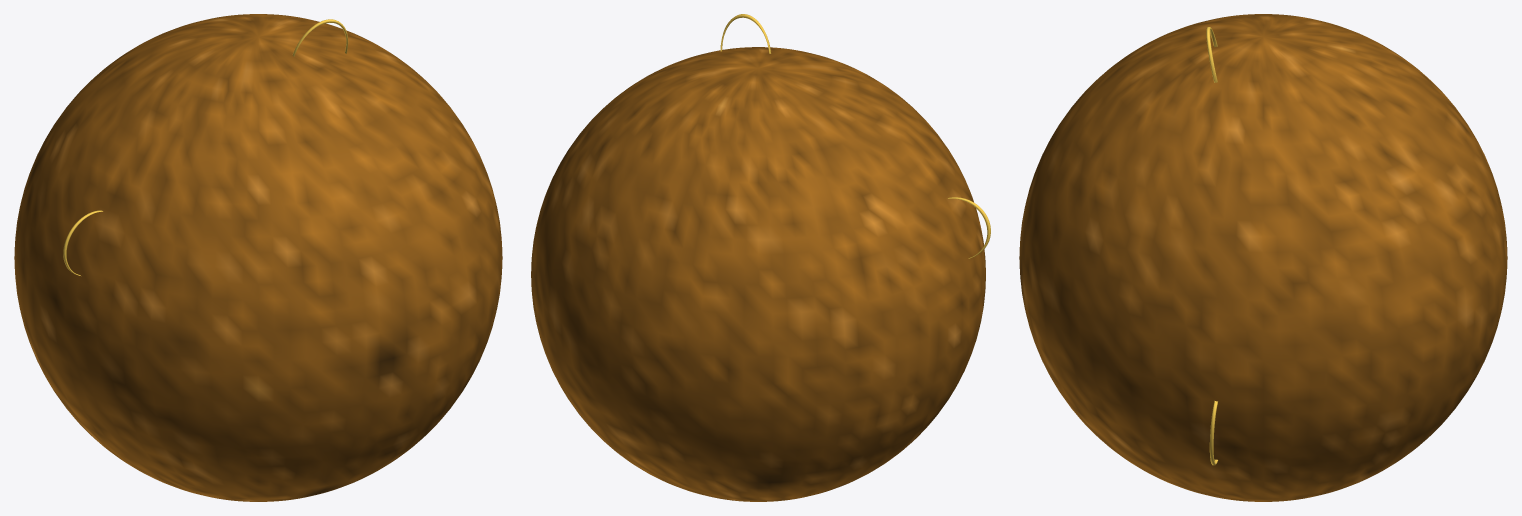
Rendered from Star_08.fbx.
3 views of the same model, side by side, from view 1: azimuth 30°, elevation 25°; view 2: azimuth 150°, elevation 25°; view 3: azimuth 270°, elevation 25° (orthographic). The views are drawn at different scales.
Parts seen in each view (by area): view 1: Star_08; view 2: Star_08; view 3: Star_08.
Part boxes in pixels (x1,y1,x2,y2): Star_08: (14,14,502,501); Star_08: (531,14,990,501); Star_08: (1019,14,1507,501).
Bounding box in the file's own units: 206 × 212 × 200.
